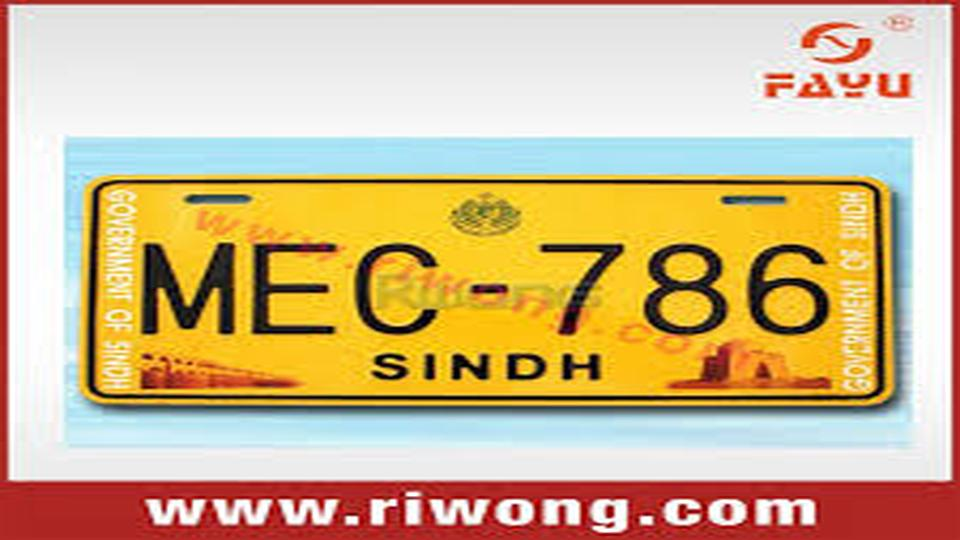NumberPlate: (82, 155, 893, 416)
